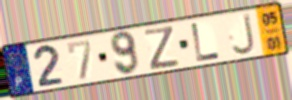2: (31, 43, 68, 90)
7: (64, 38, 94, 82)
9: (109, 29, 142, 78)
J: (230, 11, 258, 57)
L: (190, 21, 223, 63)
Z: (143, 24, 181, 71)
